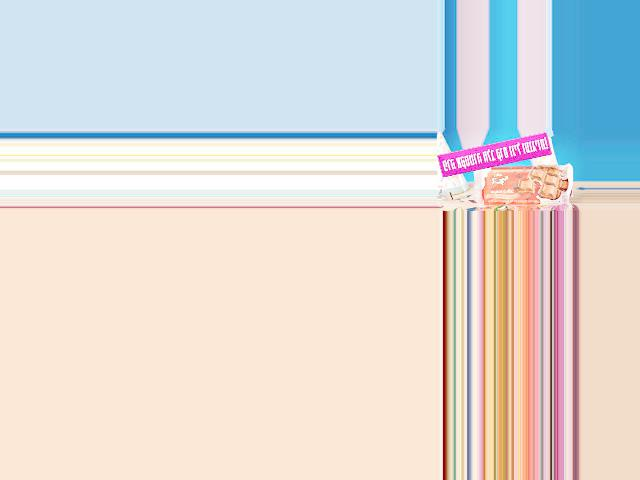chocolate: (471, 162, 575, 207)
